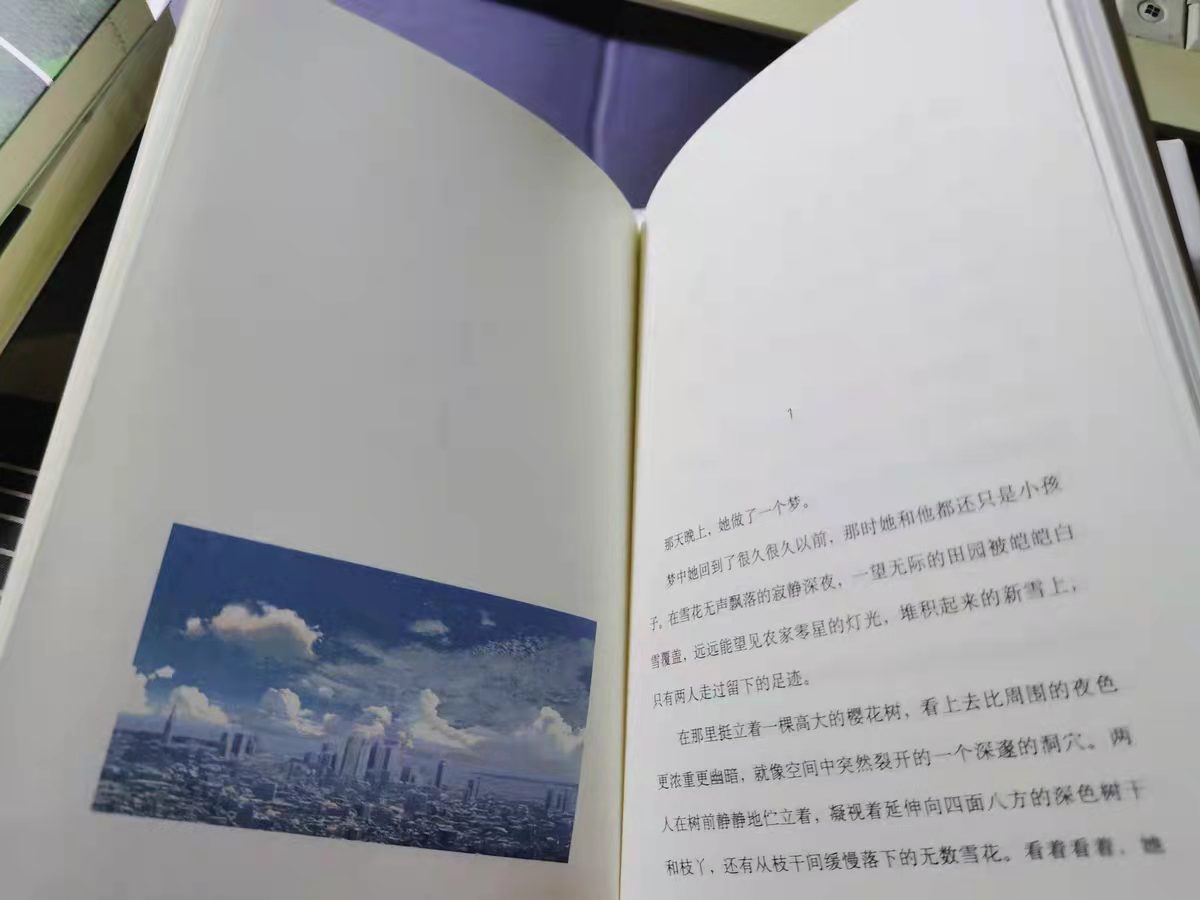book: (4, 2, 1200, 900)
